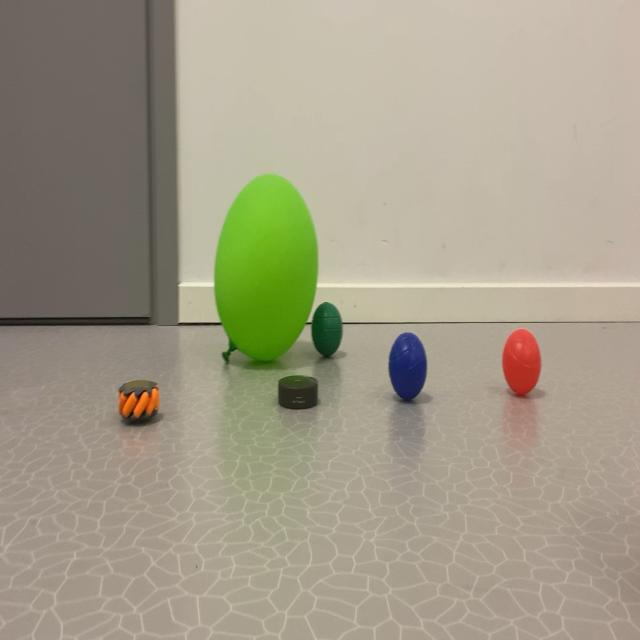7: (493, 280, 564, 456)
green ball: (384, 304, 440, 456)
red ball: (303, 271, 347, 378)
